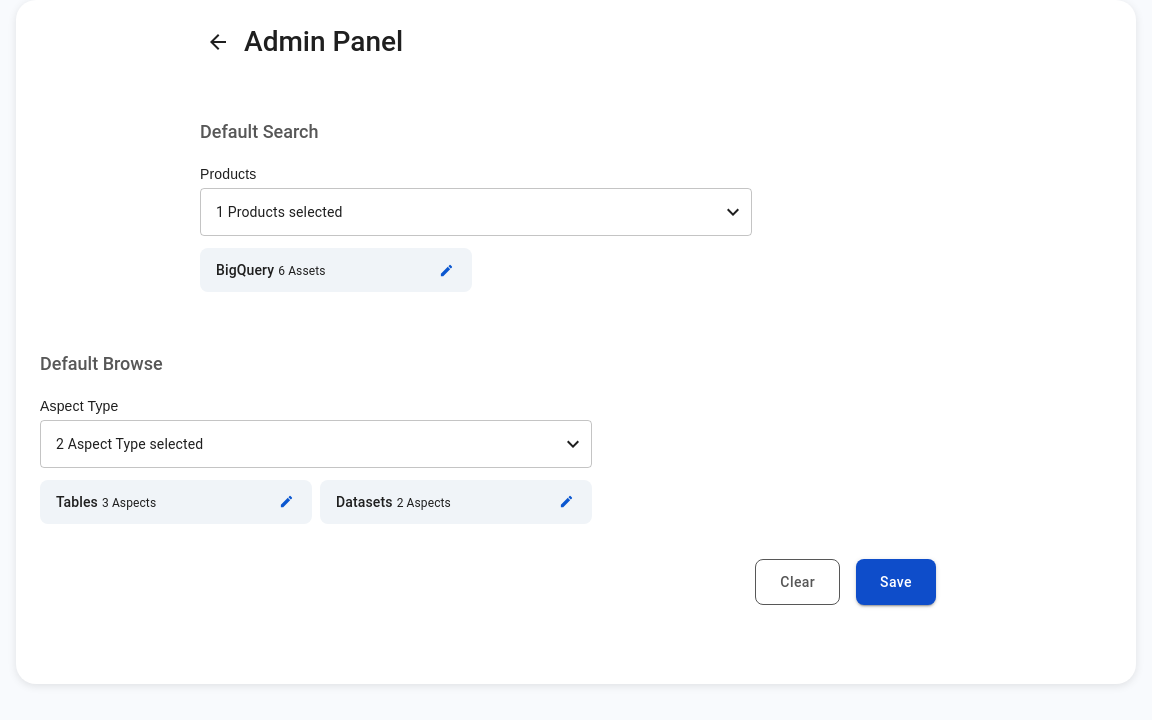
Scenario: AdminPanel › shows success modal after successful save
Click the button "Save".
click(896, 582)  # box [856,559,936,605]
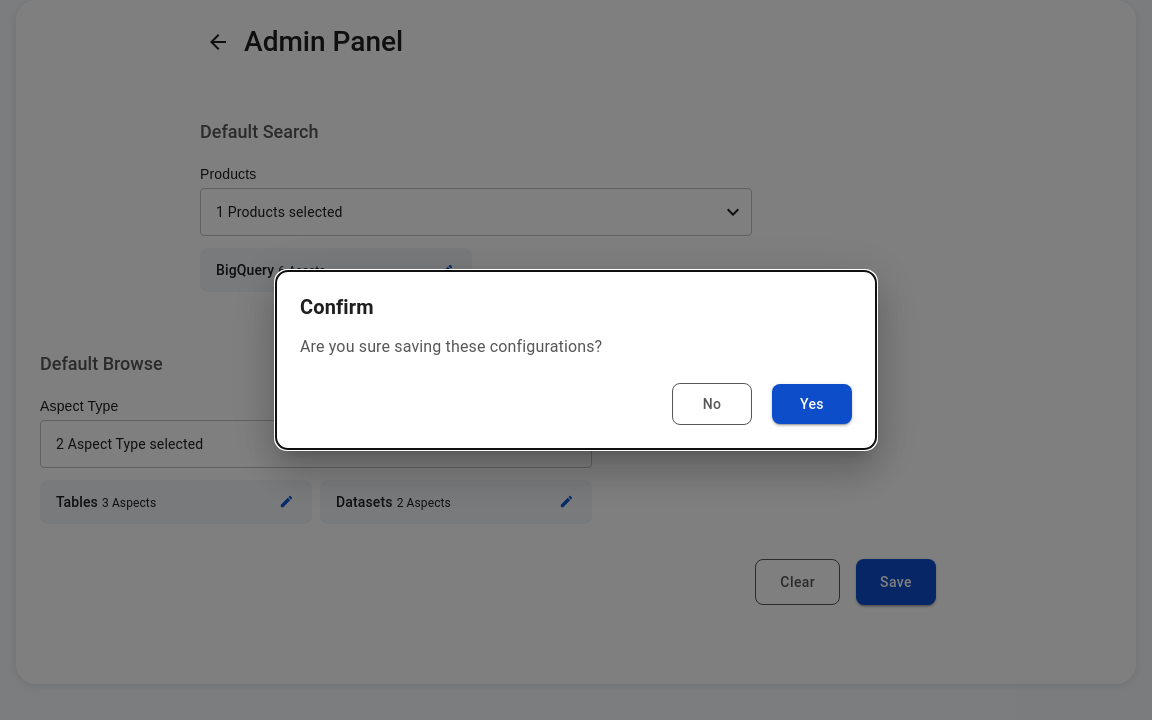
Click the button "Yes".
click(812, 404)  # box [772,384,852,424]
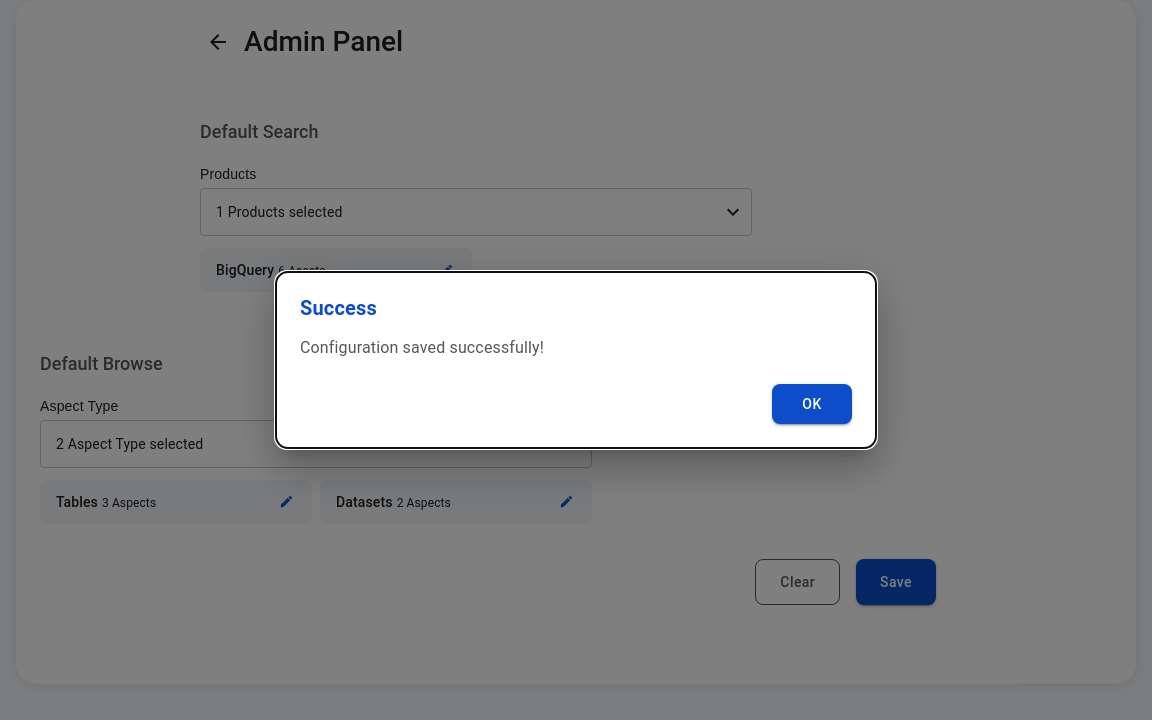
Result: the heading "Success" is shown at [300,296,377,320]
Result: the text "Configuration saved successfully!" is shown at [300,338,544,357]
Result: the button "OK" is shown at [772,384,852,424]
